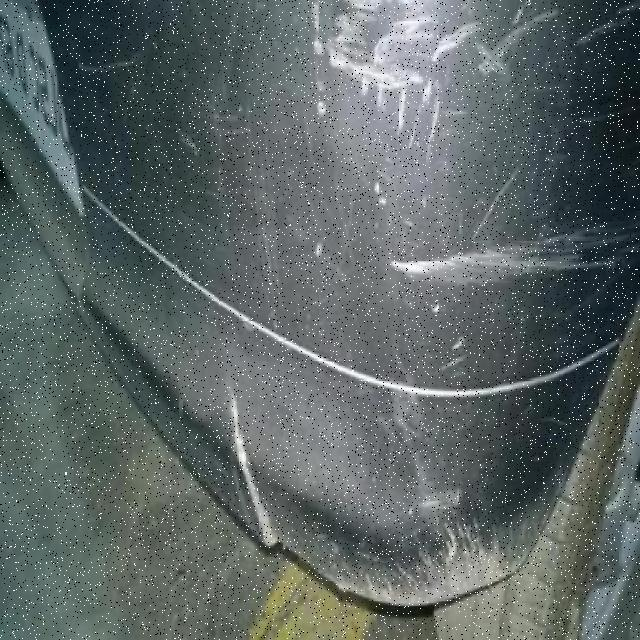damage: (311, 0, 559, 157), (325, 504, 549, 606), (390, 221, 640, 283), (232, 382, 278, 550)
